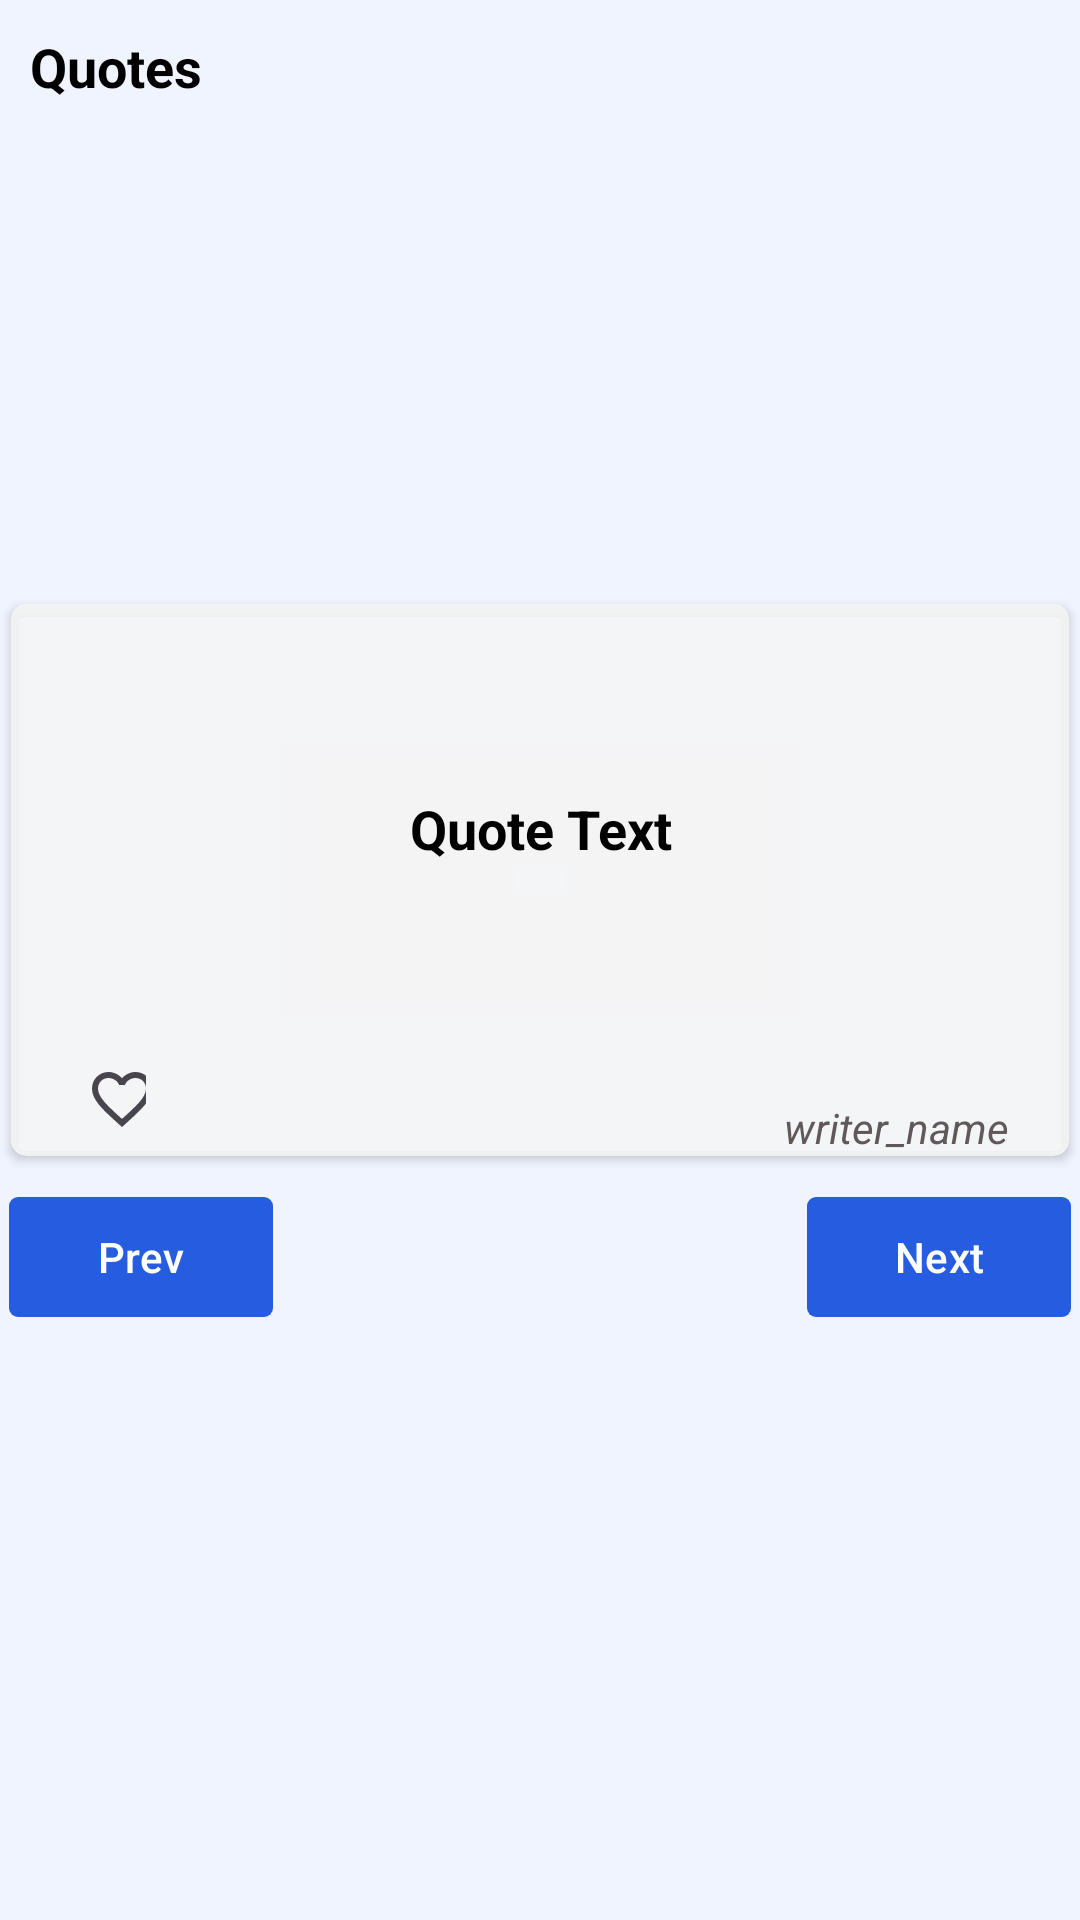

Screen size 1080 x 1920. Icon name, then its box in pixels as (x1, y1, x2, y2):
wishlist item: (92, 1072, 146, 1127)
